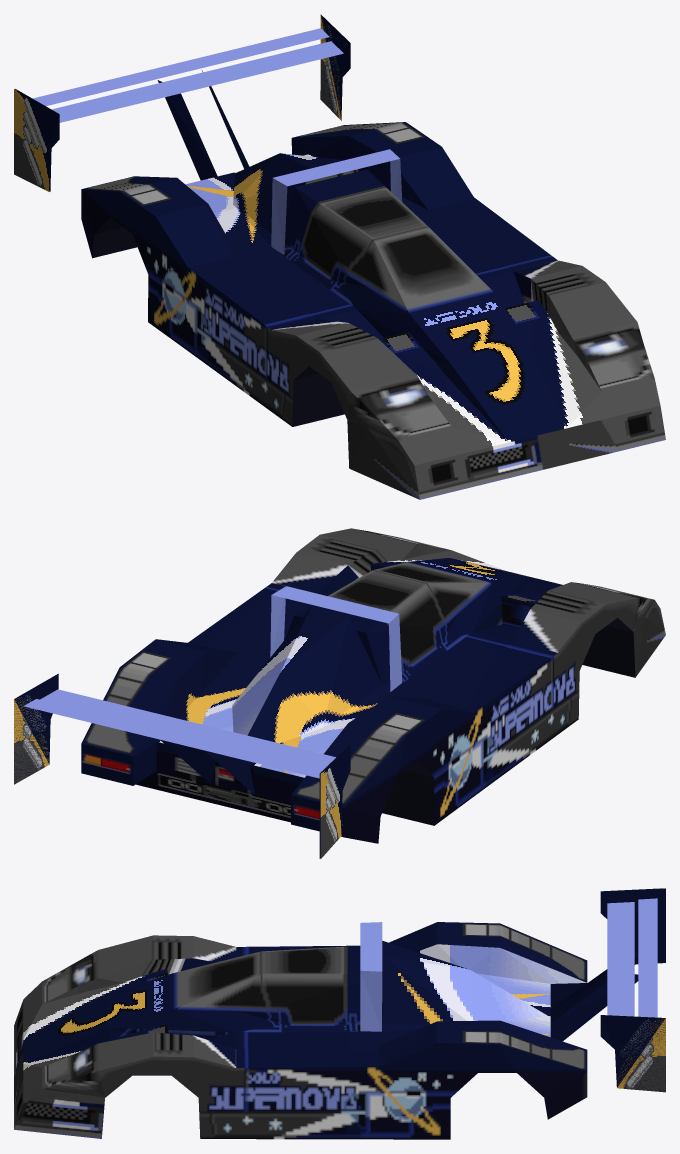
File: ridgecar.fbx
3 views of the same model, one above another, from view 1: azimuth 30°, elevation 25°; view 2: azimuth 150°, elevation 25°; view 3: azimuth 270°, elevation 25° (orthographic). The views are drawn at different scales.
Visible parts, largest first — view 1: Plane; view 2: Plane; view 3: Plane.
Part boxes in pixels (x1,y1,x2,y2): Plane: (14, 14, 665, 499); Plane: (14, 528, 665, 858); Plane: (14, 888, 665, 1139).
Size of the model in its own units: 229 by 109 by 486.
